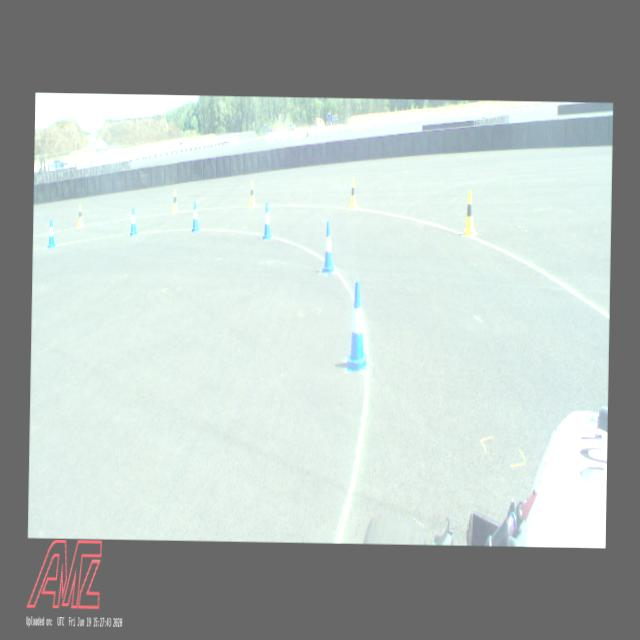blue_cone: (346, 280, 368, 369), (320, 220, 336, 272), (262, 201, 272, 239), (190, 200, 200, 232), (48, 218, 56, 248), (130, 206, 138, 234)
yellow_cone: (464, 190, 476, 234), (349, 177, 358, 209), (249, 181, 255, 206), (77, 203, 83, 227), (172, 189, 178, 212)
